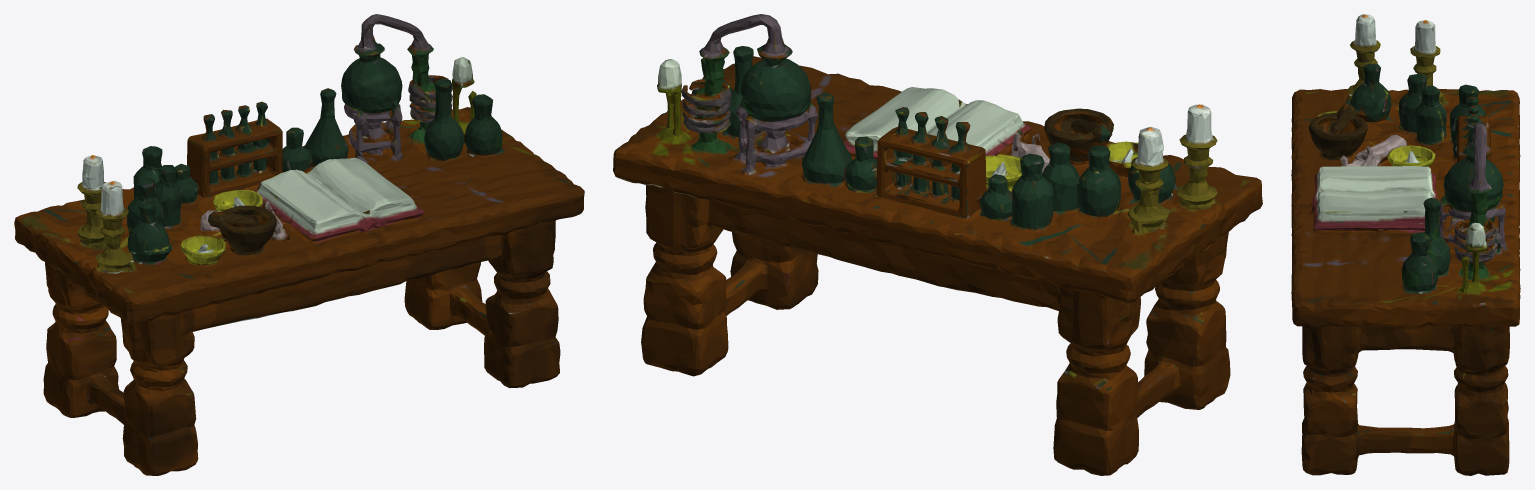
File: mesa_alquimia.glb
3 renders of one model, left to right at view 1: azimuth 30°, elevation 25°; view 2: azimuth 150°, elevation 25°; view 3: azimuth 270°, elevation 25°, orthographic. The views are drawn at different scales.
Visible parts, largest first — view 1: tmpd1filu9d.ply; view 2: tmpd1filu9d.ply; view 3: tmpd1filu9d.ply.
Part boxes in pixels (<box>): tmpd1filu9d.ply: <box>14,14,584,475</box>; tmpd1filu9d.ply: <box>613,14,1262,475</box>; tmpd1filu9d.ply: <box>1291,14,1520,475</box>.
Size of the model in its own units: 1.96 by 1.31 by 0.8801.
1 material, 1 textured.
